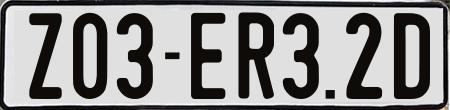0: (70, 10, 104, 99)
2: (345, 12, 386, 100)
3: (281, 12, 321, 104), (114, 11, 150, 100)
D: (391, 10, 427, 98)
E: (190, 11, 226, 98)
R: (238, 11, 280, 99)
Z: (29, 11, 67, 97)
